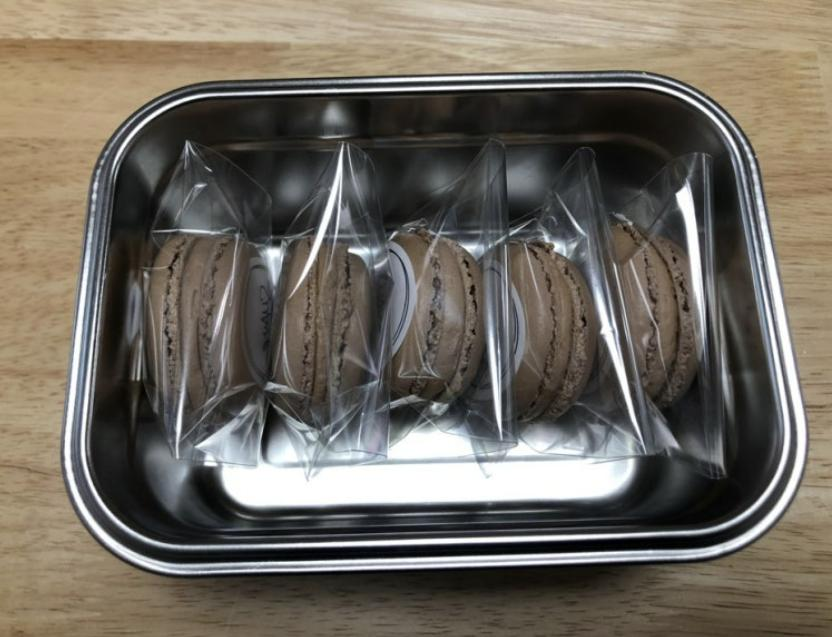Lunch Box: (64, 72, 806, 575)
